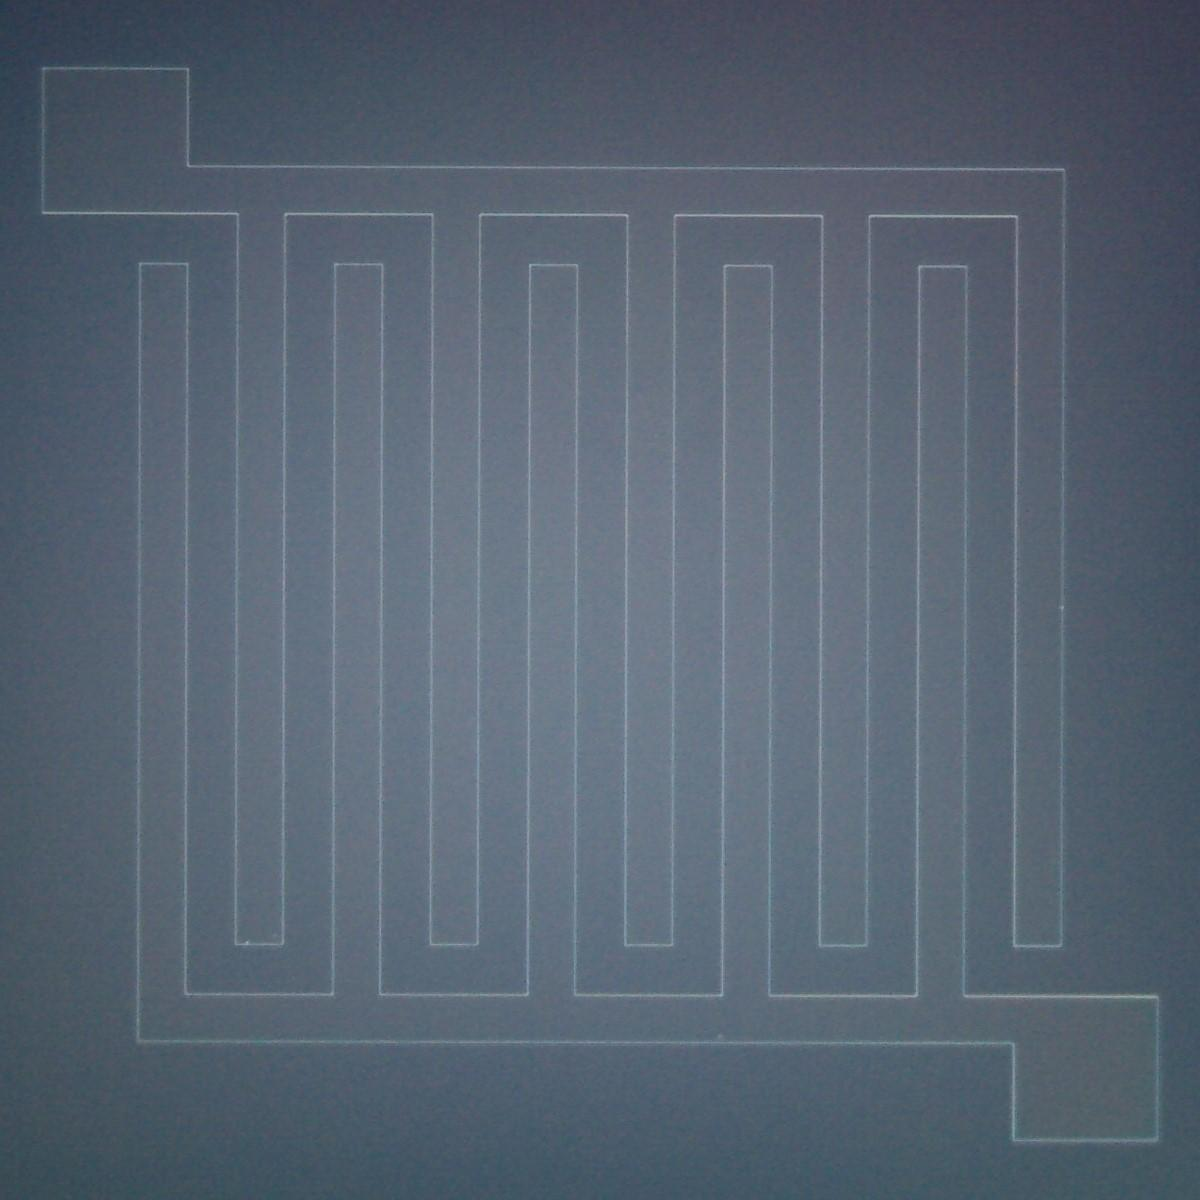s_point: (712, 1027, 729, 1045), (1055, 600, 1070, 614), (241, 935, 254, 948)
